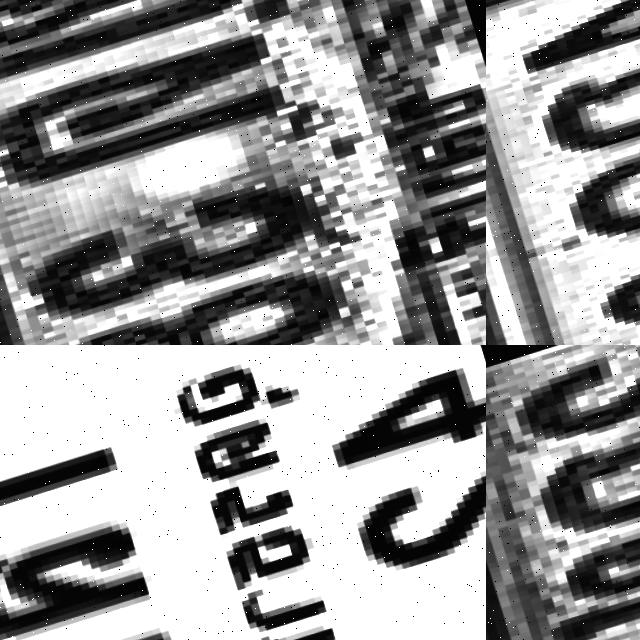license-plate: (0, 0, 486, 345), (0, 345, 486, 640), (486, 0, 640, 345), (486, 345, 640, 640)
